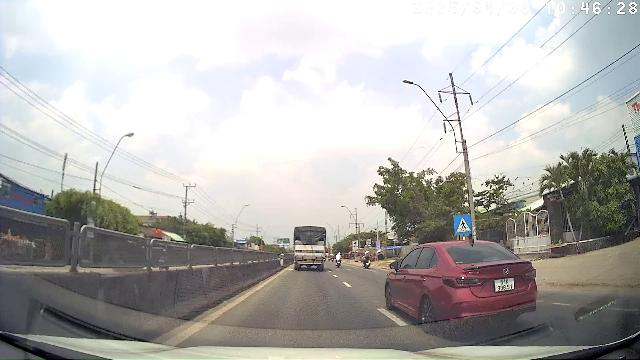423a-duong-nguoi-di-bo-sang-ngang-1: (455, 215, 471, 235)
